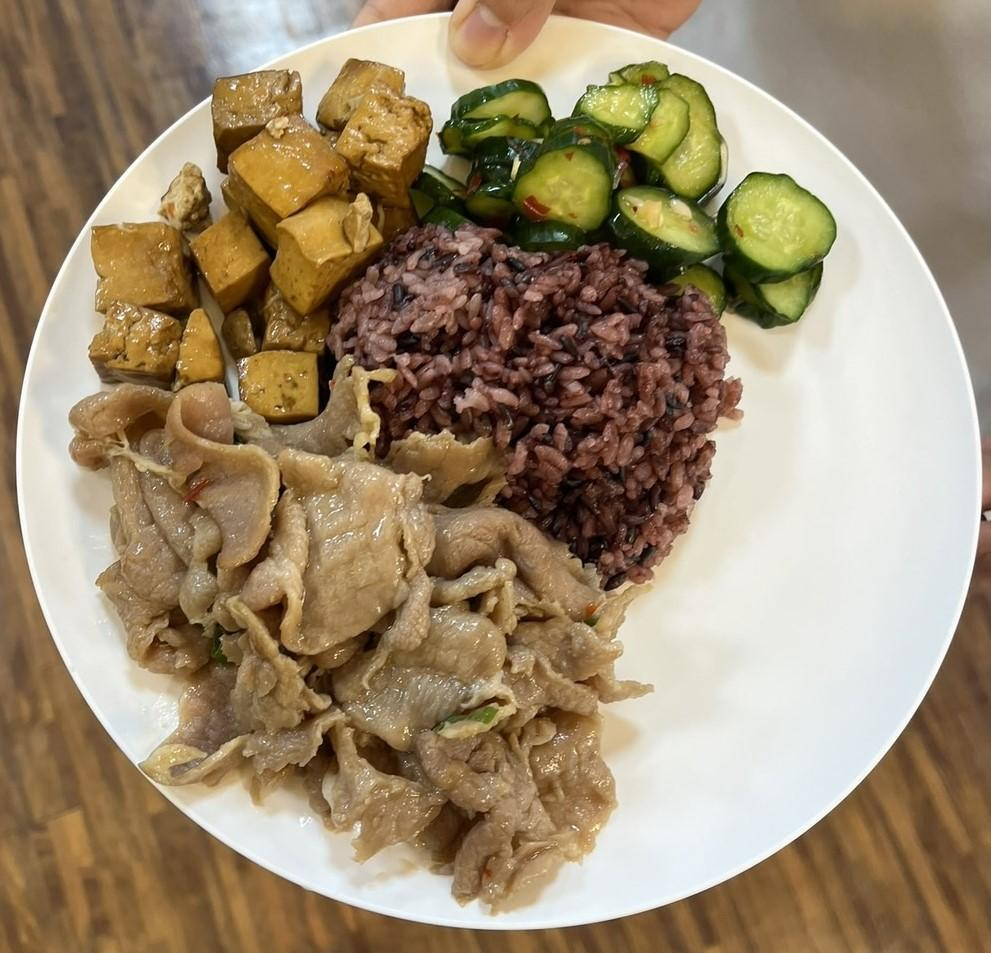big fried chicken leg: (16, 4, 991, 926)
braised fish: (314, 228, 736, 580)
braised fish fillet: (86, 49, 433, 414), (428, 48, 837, 328)
braised pork: (68, 372, 635, 913)
